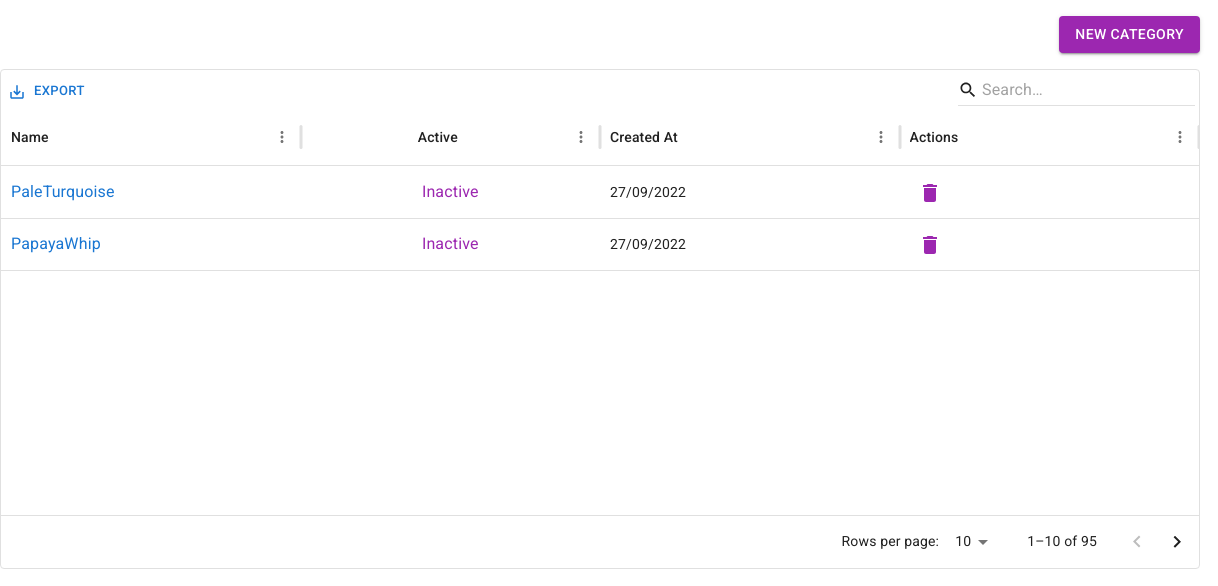
CategoryList › should handle filter change
Expected: the text "PaleTurquoise" is shown, [11,180,115,204]
# Fire event on change
Type "PapayaWhip" into the search field with placeholder "Search…" at (1074, 90), box [982,74,1165,106]
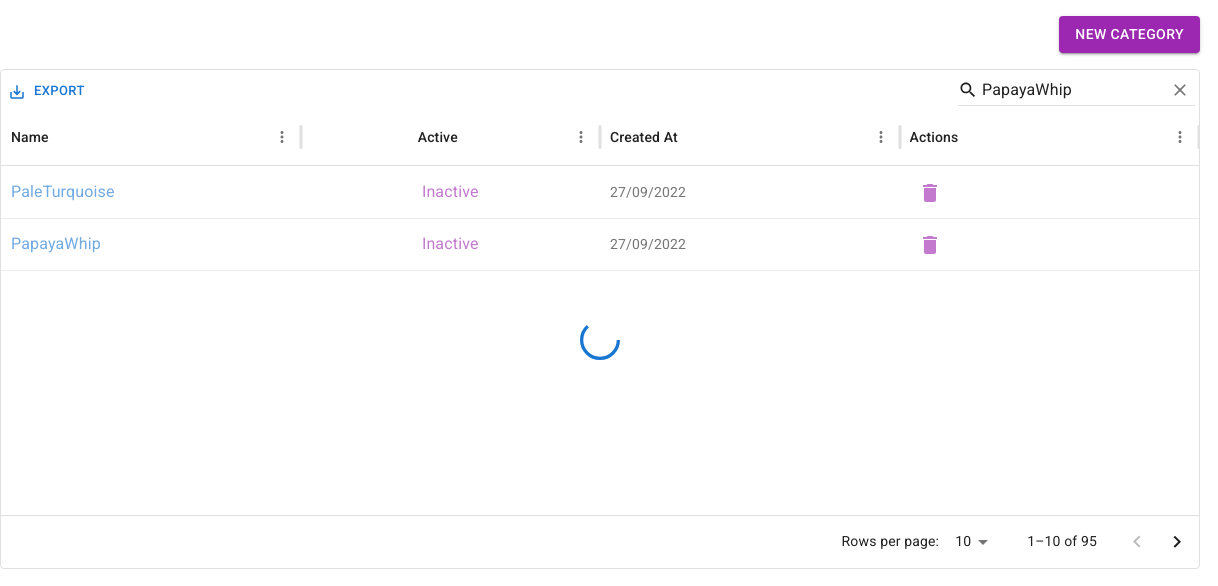
Expected: the progress indicator is shown, [580,320,620,360]
